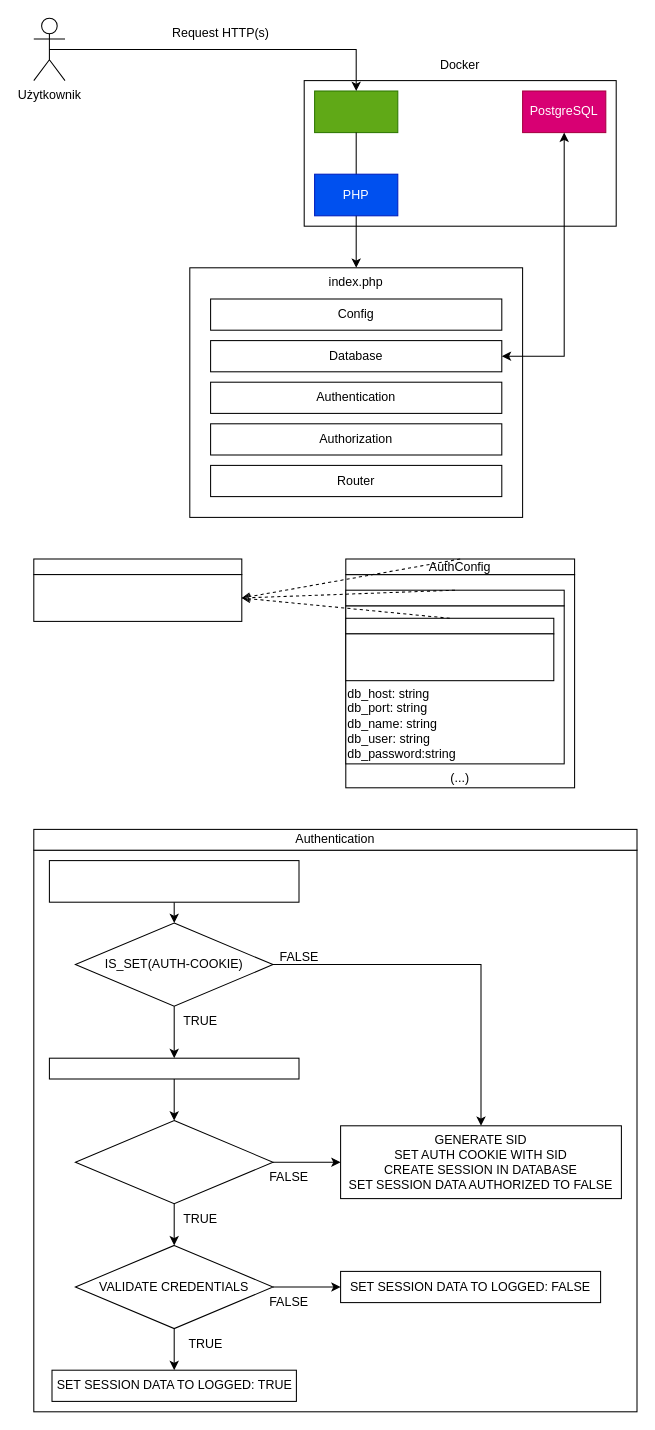
This 655x1430 diagram has some shape labels left out. Each missing label, with the box of its shape:
<<IConfig>>: (33, 558, 242, 575)
app_name: string: (345, 633, 554, 681)
BaseConfig: (345, 617, 554, 634)
CHECK IF THERE ARE EXPIRED SESSIONS AND DELETE: (48, 860, 299, 902)
DbConfig: (345, 589, 564, 606)
getConfigurationProperties(): string: (33, 574, 242, 621)
Nginx: (314, 90, 398, 133)
READ SID: (48, 1057, 299, 1079)
SESSION EXIST IN DB: (74, 1120, 273, 1204)
